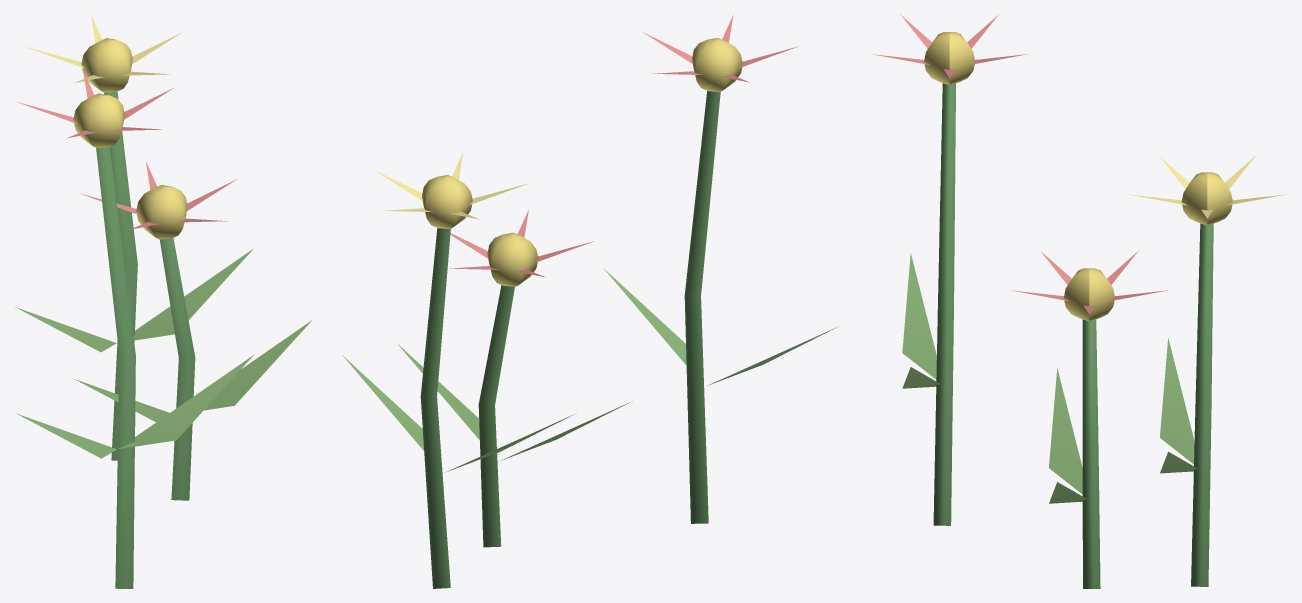
The model's file is blume_3.glb.
3 views of the same model, side by side, from view 1: azimuth 30°, elevation 25°; view 2: azimuth 150°, elevation 25°; view 3: azimuth 270°, elevation 25° (orthographic). The views are drawn at different scales.
Parts seen in each view (by area): view 1: G_blume_3; view 2: G_blume_3; view 3: G_blume_3.
Part boxes in pixels (<box>): G_blume_3: <box>15,15,311,588</box>; G_blume_3: <box>342,15,838,588</box>; G_blume_3: <box>871,14,1286,588</box>.
Bounding box in the file's own units: 0.4974 × 0.6281 × 0.4953.
